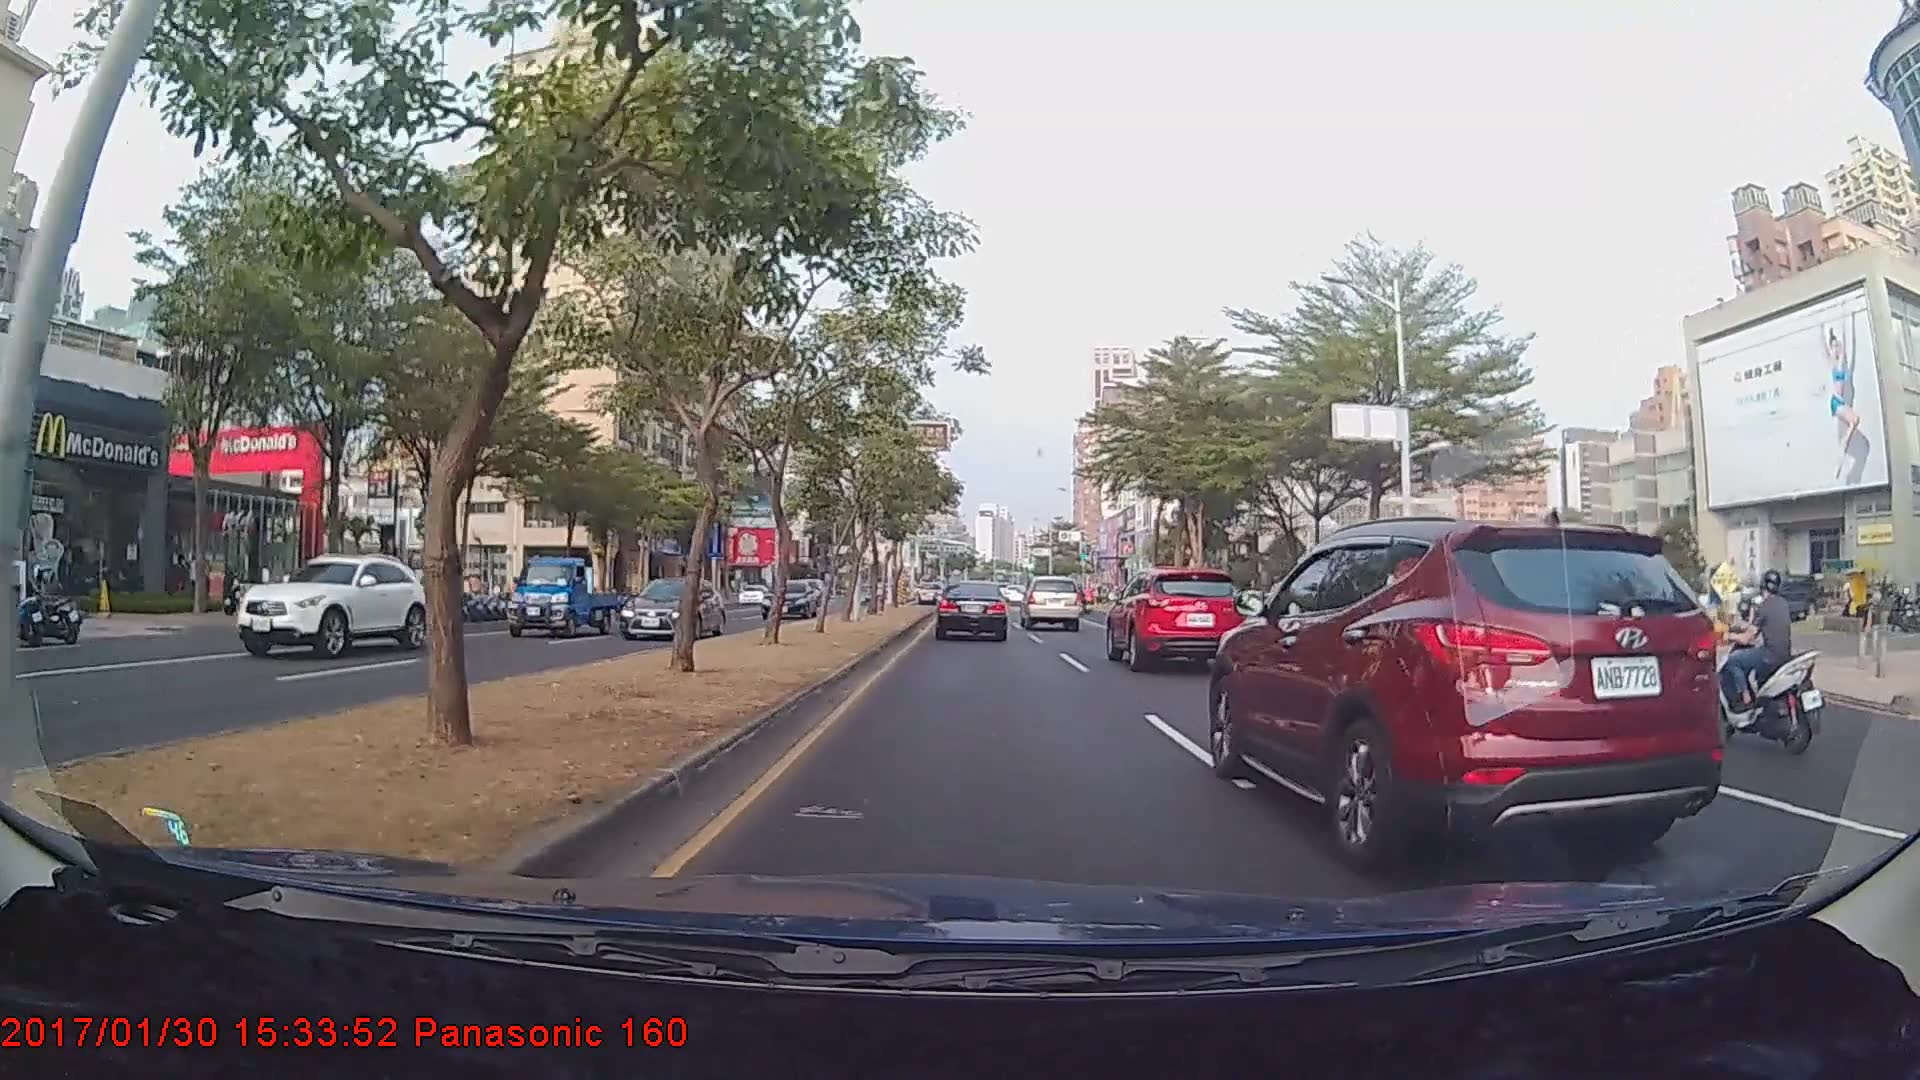rider: (1699, 566, 1826, 755)
vehicle: (1208, 523, 1725, 874), (231, 551, 430, 658), (1101, 564, 1250, 671), (505, 554, 621, 635), (620, 573, 725, 636), (936, 579, 1008, 641), (1020, 574, 1082, 631), (758, 579, 820, 618)
